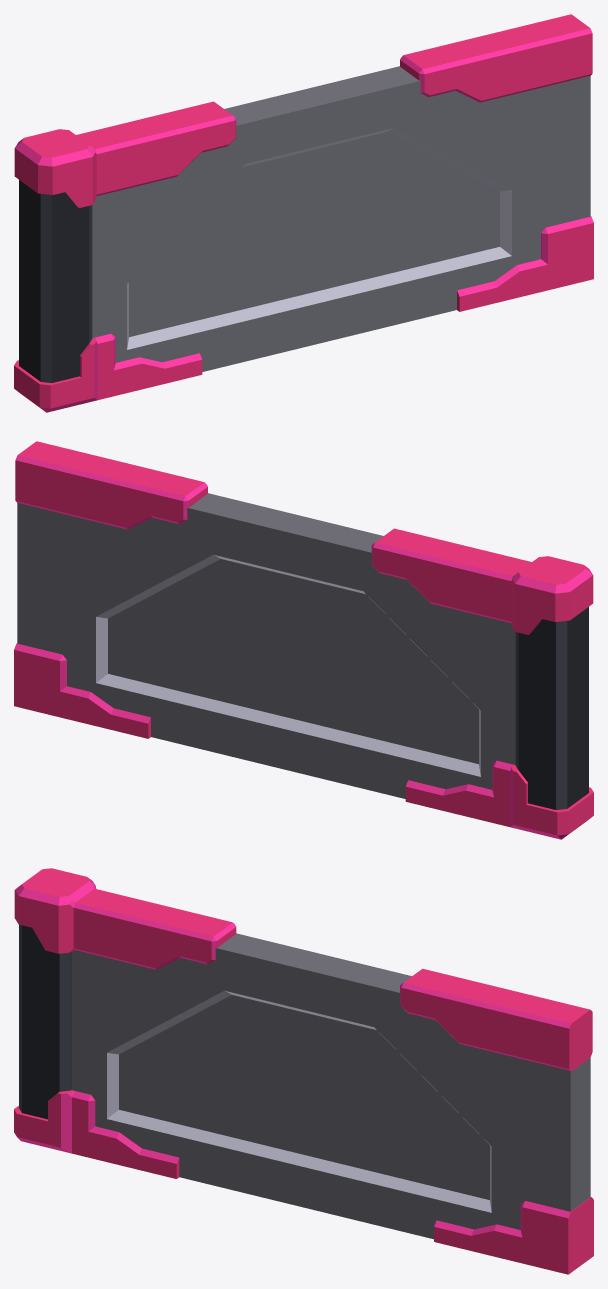
The model's file is RobotRampage_Wall.fbx.
3 views of the same model, one above another, from view 1: azimuth 30°, elevation 25°; view 2: azimuth 150°, elevation 25°; view 3: azimuth 330°, elevation 25° (orthographic).
Visible parts, largest first — view 1: Cube; view 2: Cube; view 3: Cube.
Part boxes in pixels (x1=…): Cube: x1=14, y1=14, x2=593, y2=412; Cube: x1=14, y1=441, x2=593, y2=839; Cube: x1=14, y1=868, x2=593, y2=1274.
Size of the model in its own units: 3171 by 1390 by 336.
